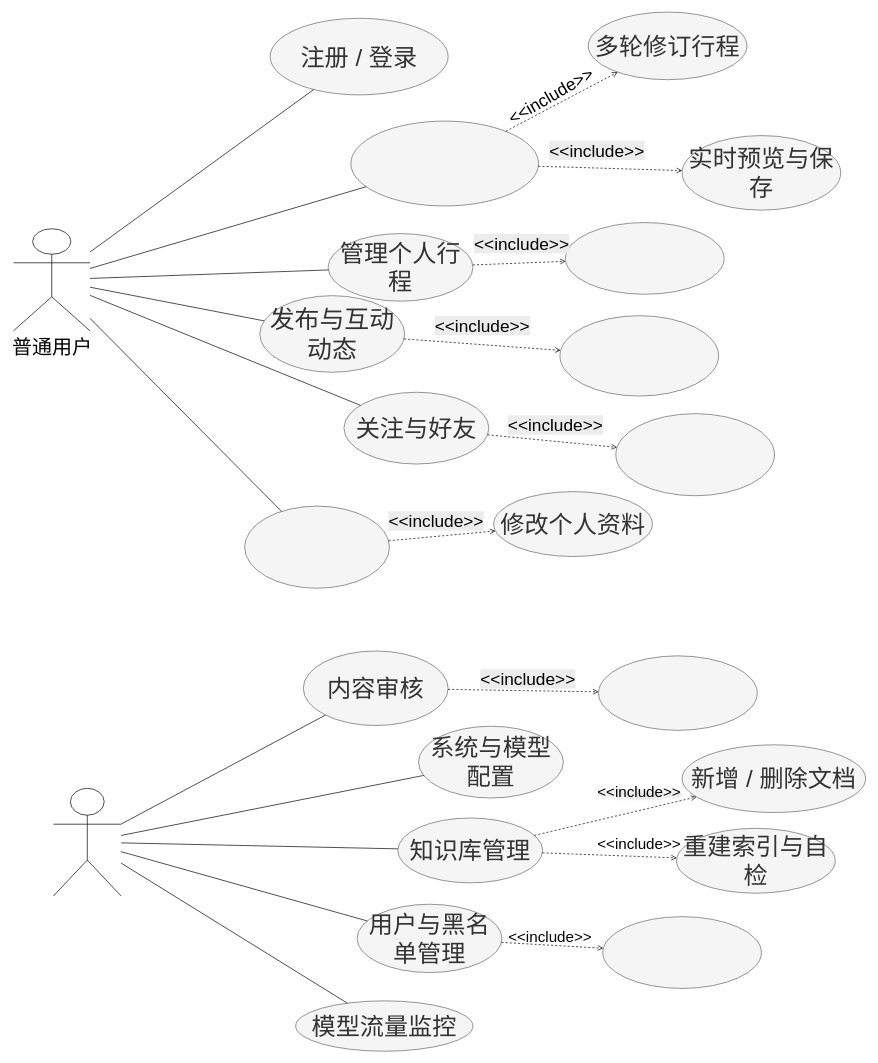
Some shapes in this 878 by 1063 pixel diagram are drawn without their labels. The shapes that lost their labels are listed below. From the top down, each one's centre as x and y in pixels, then its label:
pixel 444 163: 智能规划行程
pixel 644 258: 设置行程提醒
pixel 639 355: 选择动态可见范围
pixel 695 454: 查看关注与粉丝
pixel 317 546: 消息与个人资料
pixel 677 692: 按可见范围筛选
pixel 87 842: 管理员
pixel 681 952: 拉黑 / 解封用户
